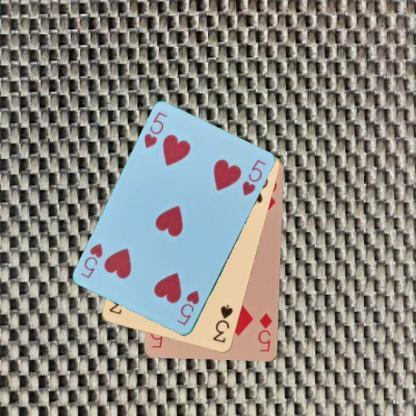3s: (210, 302, 235, 344)
5d: (256, 311, 274, 353)
5h: (174, 288, 201, 328), (142, 109, 168, 150)
